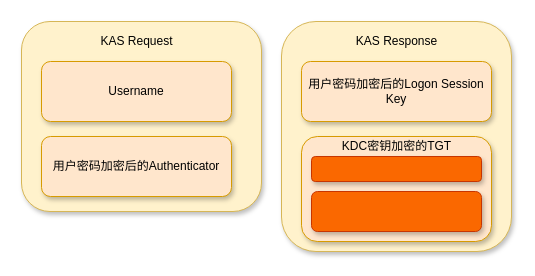
Some shapes in this 535 by 276 pixel diagram are drawn without their labels. Each missing label, with the centre of its shape:
原始的Logon Session Key: point (397, 212)
用户信息: point (397, 170)
